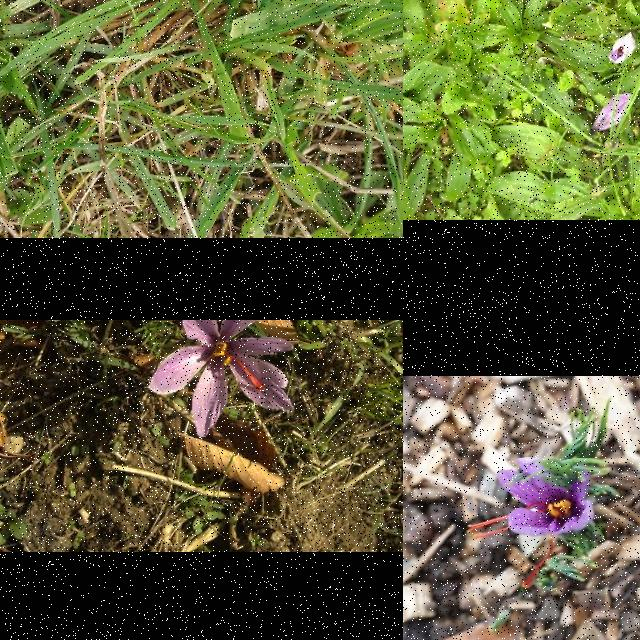flower: (147, 320, 295, 438), (467, 458, 593, 588), (592, 93, 634, 133), (608, 33, 636, 66)
